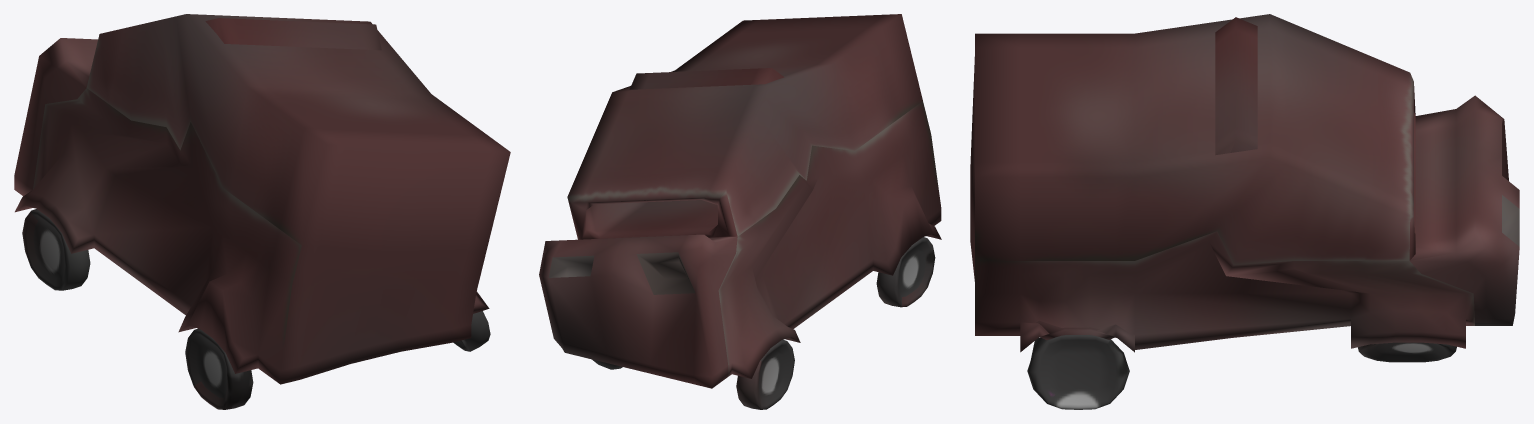
Rendered from Carro destrozado.FBX.
3 renders of one model, left to right at view 1: azimuth 30°, elevation 25°; view 2: azimuth 150°, elevation 25°; view 3: azimuth 270°, elevation 25°, orthographic. The views are drawn at different scales.
Bounding box in the file's own units: 280 × 308 × 491.
